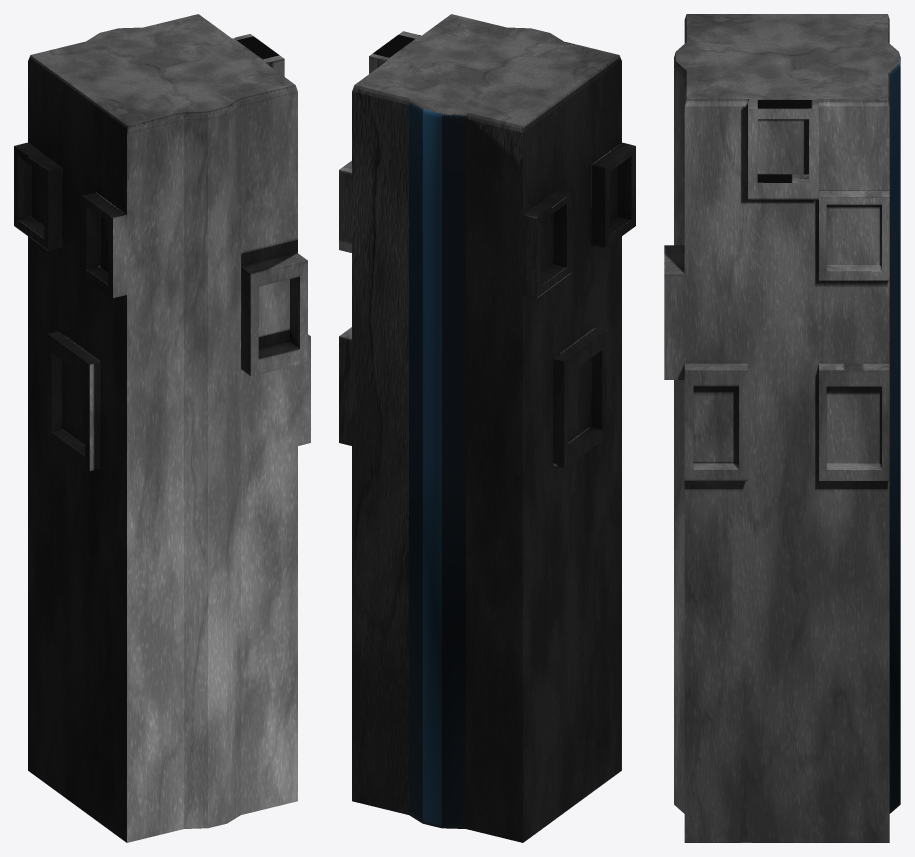
File: building.fbx
3 views of the same model, side by side, from view 1: azimuth 30°, elevation 25°; view 2: azimuth 150°, elevation 25°; view 3: azimuth 270°, elevation 25° (orthographic). The views are drawn at different scales.
Visible parts, largest first — view 1: BuildingBaked; view 2: BuildingBaked; view 3: BuildingBaked.
Boxes of the visible parts, x1,y1,x2,y2 form: BuildingBaked: [14, 14, 310, 842]; BuildingBaked: [339, 14, 635, 842]; BuildingBaked: [664, 14, 900, 842].
Bounding box in the file's own units: 118 × 400 × 115.
